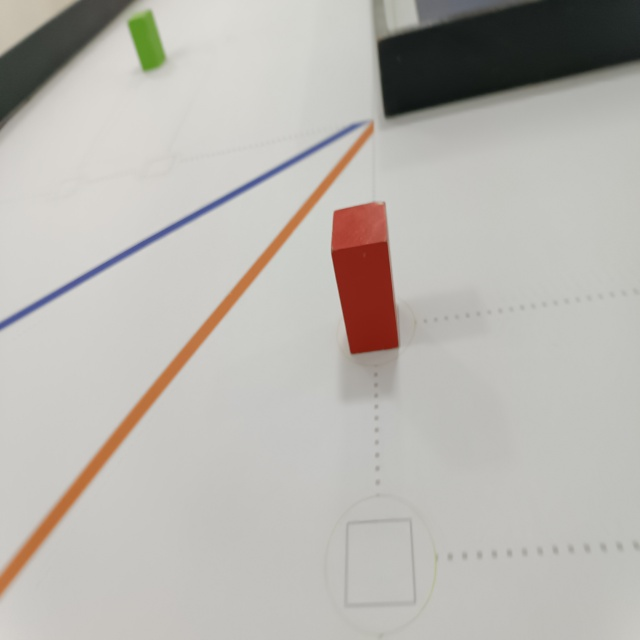blue line: (0, 119, 365, 334)
green rectangular prism: (124, 13, 171, 74)
orange line: (0, 121, 378, 607)
red rectangular prism: (328, 201, 403, 356)
